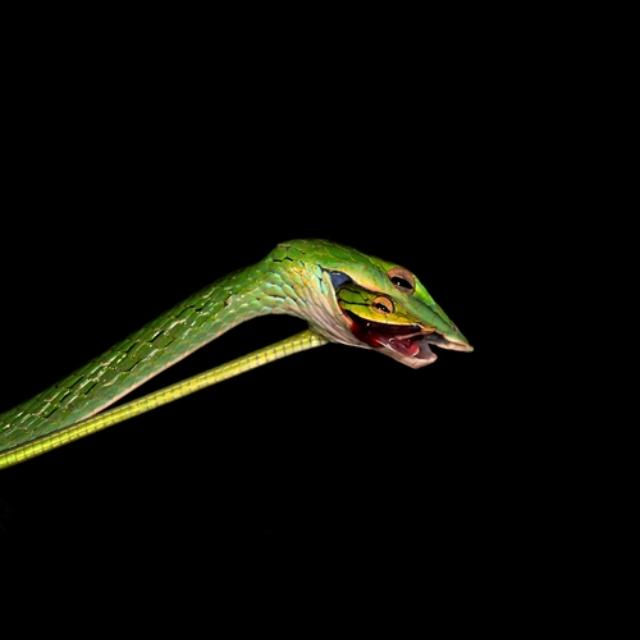snake: (0, 232, 482, 456)
